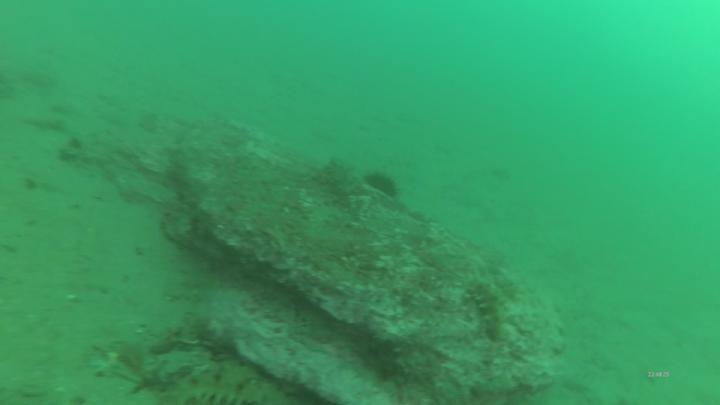echinus: (360, 168, 403, 201)
holothurian: (165, 357, 318, 405), (468, 279, 515, 349), (321, 155, 372, 215)
